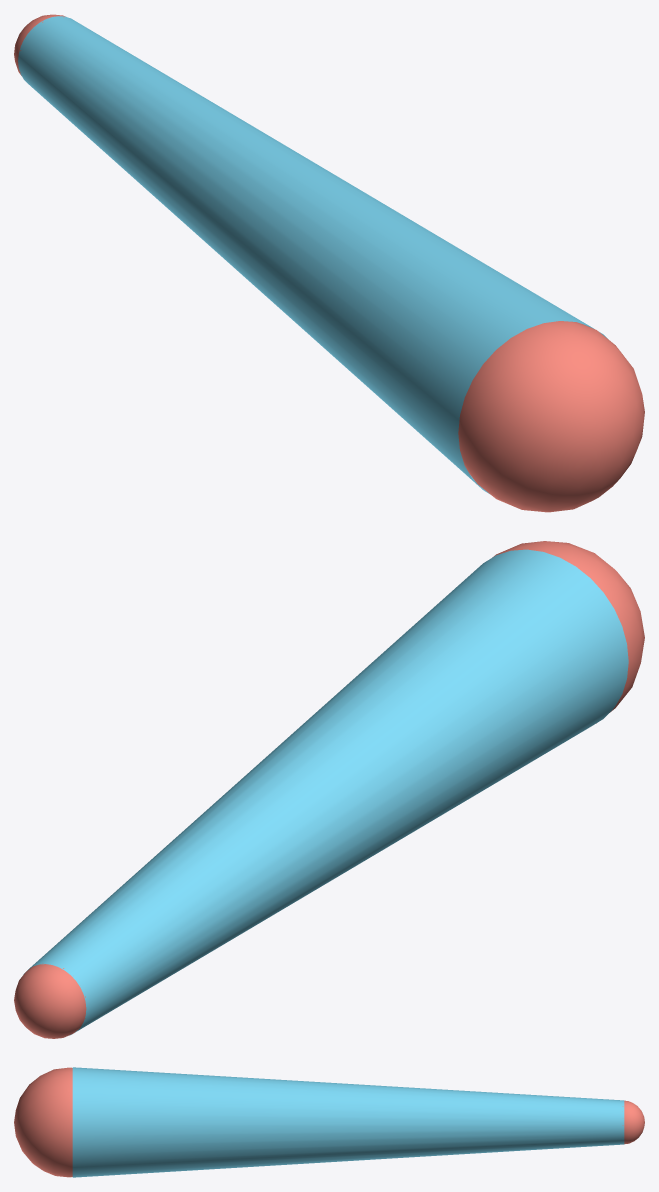
The picture shows the model from 3 angles, top to bottom: view 1: azimuth 30°, elevation 25°; view 2: azimuth 150°, elevation 25°; view 3: azimuth 270°, elevation 25°; orthographic projection. The views are drawn at different scales.
Parts seen in each view (by area): view 1: Cone:0.008; view 2: Cone:0.008; view 3: Cone:0.008.
Boxes of the visible parts, left/top/right/bottom form: Cone:0.008: left=14, top=14, right=644, bottom=512; Cone:0.008: left=14, top=541, right=644, bottom=1038; Cone:0.008: left=14, top=1067, right=644, bottom=1177.
Bounding box in the file's own units: 0.2 × 0.2 × 1.14.
